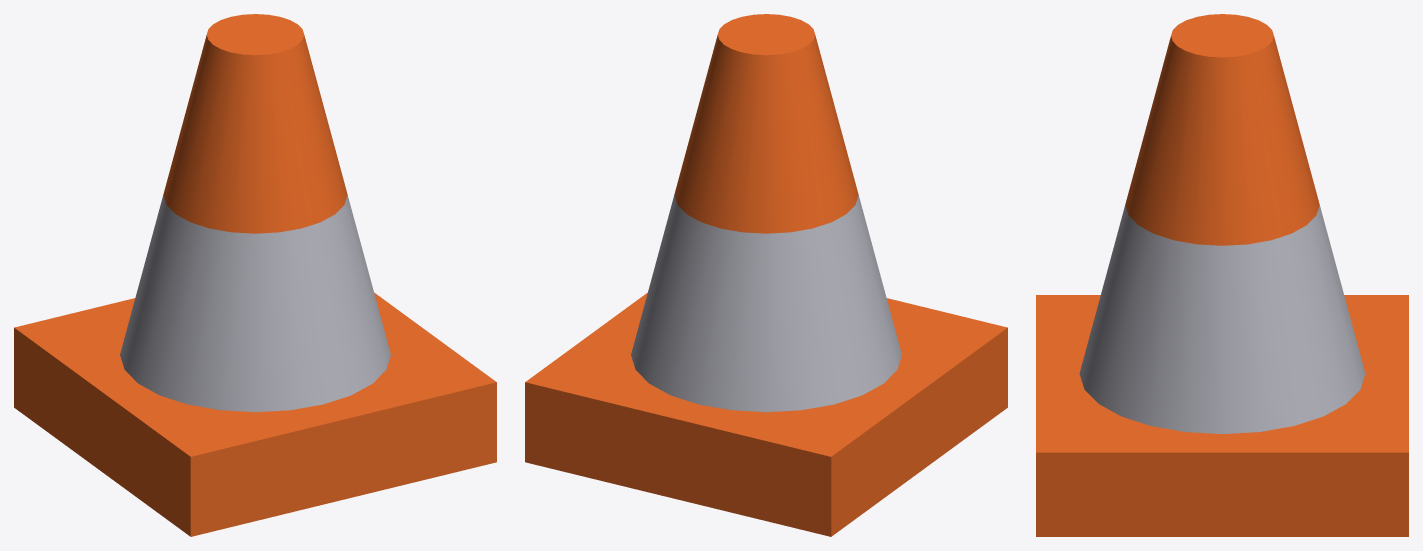
File: Construction Pylon.glb
3 renders of one model, left to right at view 1: azimuth 30°, elevation 25°; view 2: azimuth 150°, elevation 25°; view 3: azimuth 270°, elevation 25°, orthographic. The views are drawn at different scales.
Parts seen in each view (by area): view 1: construction_pylon; view 2: construction_pylon; view 3: construction_pylon.
Boxes of the visible parts, <box> form: construction_pylon: <box>14,14,496,536</box>; construction_pylon: <box>525,14,1007,536</box>; construction_pylon: <box>1036,14,1408,536</box>.
Bounding box in the file's own units: 0.075 × 0.0938 × 0.075.
